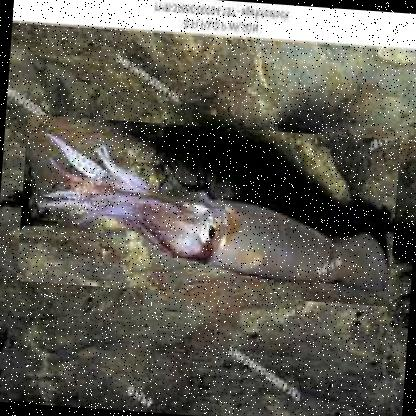colossal_squid: (16, 113, 402, 307)
